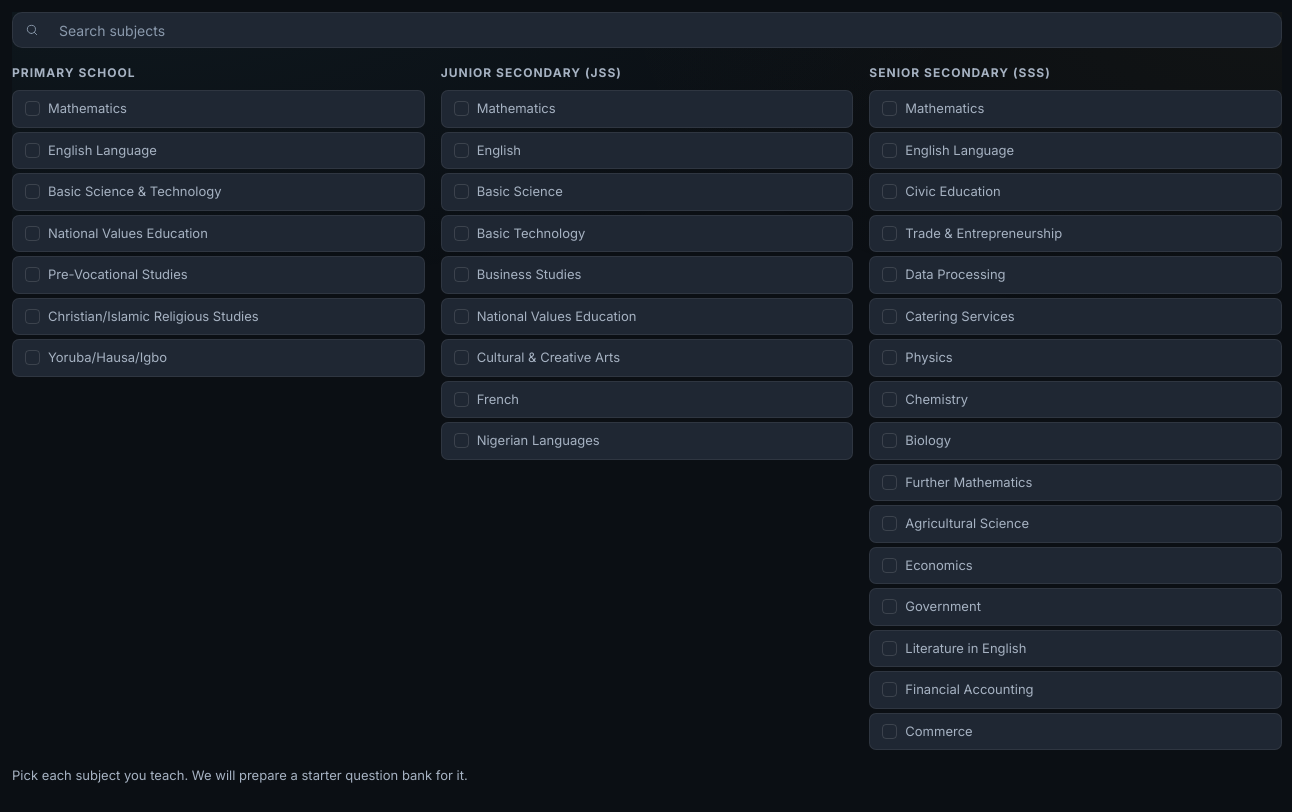
SubjectPicker › narrows the chips to the search term
The width and height of the screenshot is (1292, 812).
Type "mathematics" into the search field labelled "Search subjects" at (658, 30), box [47,12,1269,48]
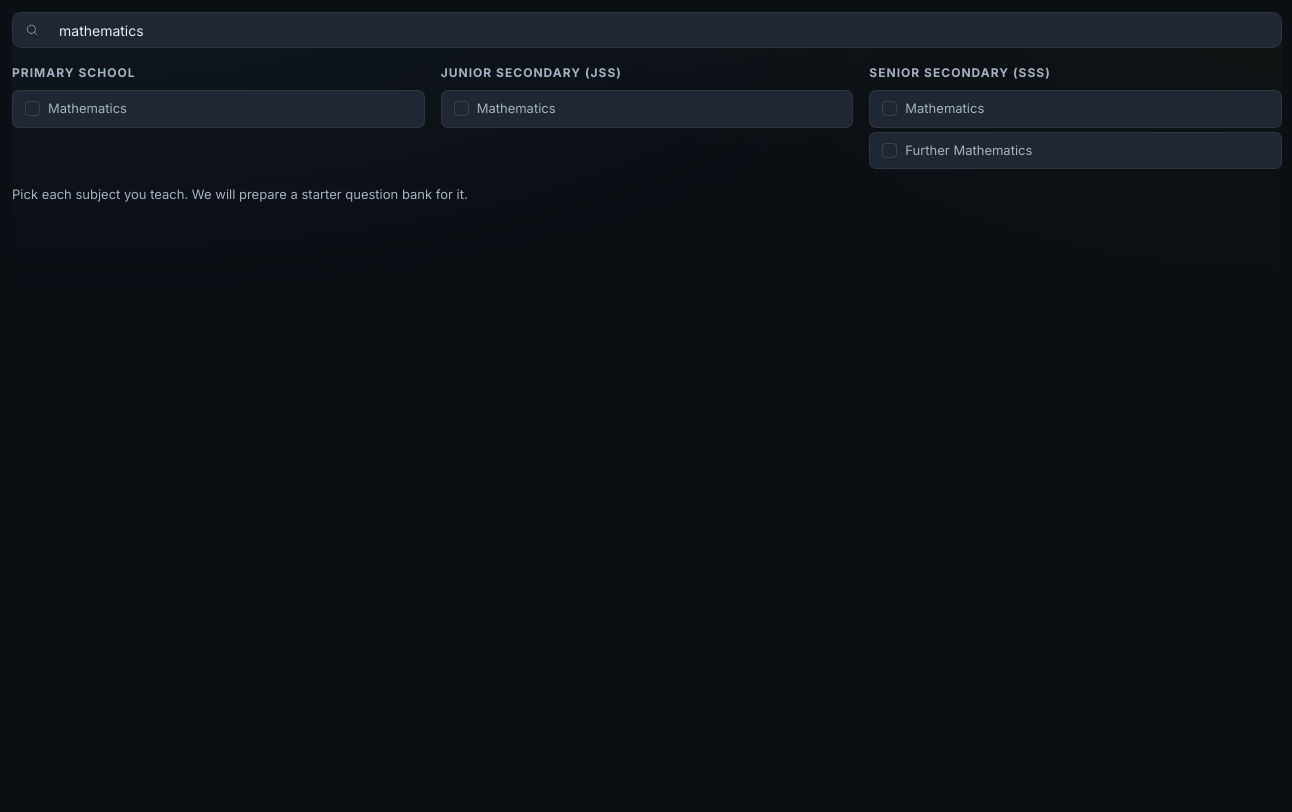
expect the number of buttons "Mathematics" is 3: met, box [12,90,425,128]; [441,90,853,128]; [869,90,1282,128]
expect the button "Biology" is gone: met
